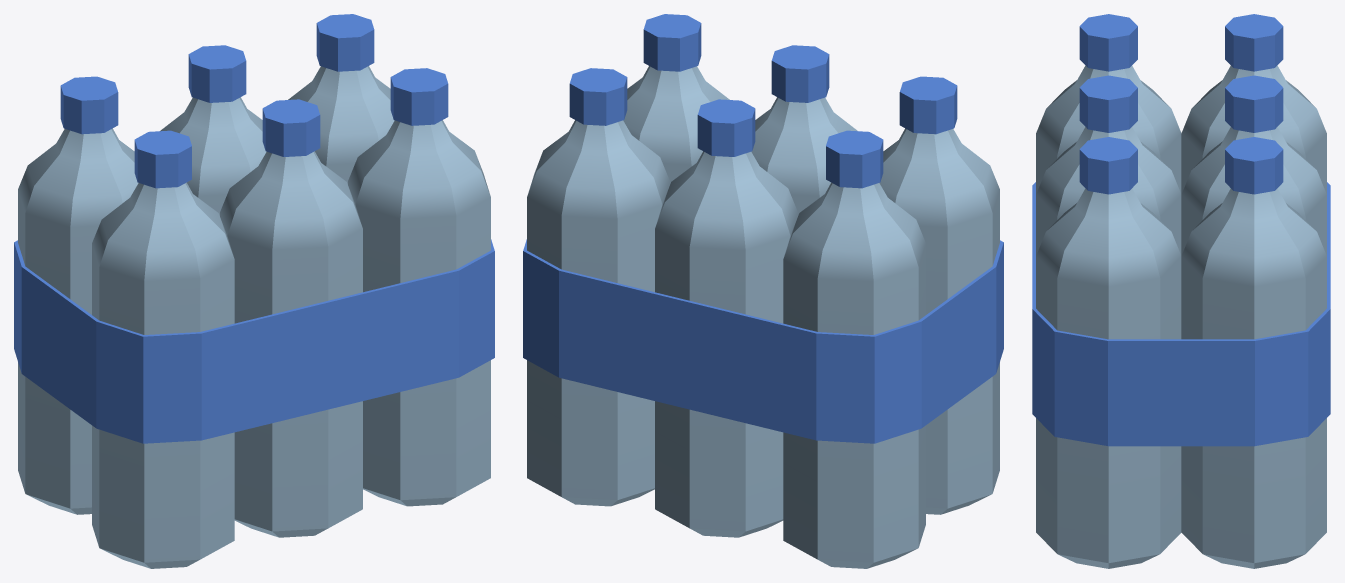
File: Water.fbx
The picture shows the model from 3 angles, left to right: view 1: azimuth 30°, elevation 25°; view 2: azimuth 150°, elevation 25°; view 3: azimuth 270°, elevation 25°; orthographic projection.
Parts seen in each view (by area): view 1: Water; view 2: Water; view 3: Water.
Part boxes in pixels (<box>): Water: <box>14,14,494,568</box>; Water: <box>523,14,1003,568</box>; Water: <box>1032,14,1330,568</box>.
Size of the model in its own units: 10.89 by 10.84 by 7.32.
